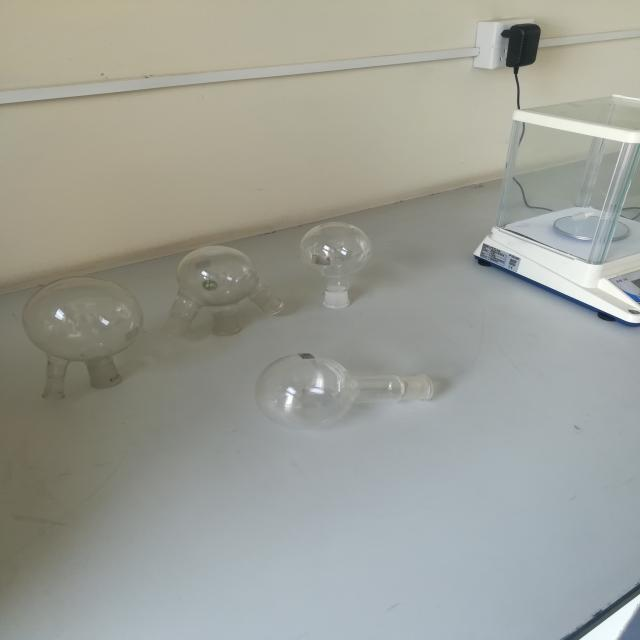Round_Bottom_Flask_Borosilicate_Glass_1_Neck: (248, 328, 450, 442)
Round_Bottom_Flask_Borosilicate_Glass_2_Neck: (2, 256, 178, 411)
Round_Bottom_Flask_Borosilicate_Glass_3_Neck: (149, 228, 292, 352), (284, 202, 392, 319)
